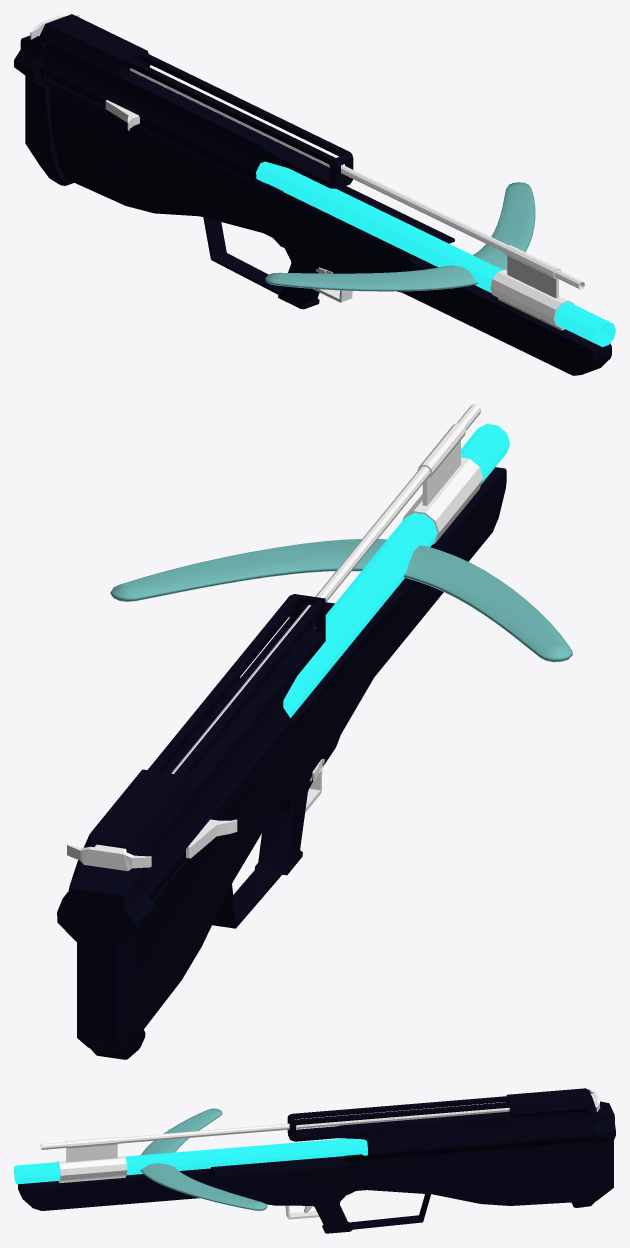
The model's file is boomerang.glb.
3 renders of one model, top to bottom at view 1: azimuth 30°, elevation 25°; view 2: azimuth 150°, elevation 25°; view 3: azimuth 270°, elevation 25°, orthographic. The views are drawn at different scales.
Visible parts, largest first — view 1: New_Game_Object_Clone__Clone__mat0_0.042, New_Game_Object_Clone__Clone__mat0_0.006, boomerang_boomerang_0.001, New_Game_Object_Clone__Clone__mat0_0.007, New_Game_Object_Clone__Clone__mat0_0.004, New_Game_Object_Clone__Clone__mat0_0.005; view 2: New_Game_Object_Clone__Clone__mat0_0.042, boomerang_boomerang_0.001, New_Game_Object_Clone__Clone__mat0_0.006, New_Game_Object_Clone__Clone__mat0_0.007, New_Game_Object_Clone__Clone__mat0_0.004, New_Game_Object_Clone__Clone__mat0_0.005, New_Game_Object_Clone__Clone__mat0_0.013, New_Game_Object_Clone__Clone__mat0_0.015; view 3: New_Game_Object_Clone__Clone__mat0_0.042, New_Game_Object_Clone__Clone__mat0_0.006, boomerang_boomerang_0.001, New_Game_Object_Clone__Clone__mat0_0.007, New_Game_Object_Clone__Clone__mat0_0.004, New_Game_Object_Clone__Clone__mat0_0.005, New_Game_Object_Clone__Clone__mat0_0.043.
Part boxes in pixels (x1,y1,x2,y2): New_Game_Object_Clone__Clone__mat0_0.042: [14, 14, 611, 375]; New_Game_Object_Clone__Clone__mat0_0.006: [256, 161, 615, 347]; boomerang_boomerang_0.001: [265, 182, 535, 291]; New_Game_Object_Clone__Clone__mat0_0.007: [130, 68, 584, 289]; New_Game_Object_Clone__Clone__mat0_0.004: [490, 269, 574, 330]; New_Game_Object_Clone__Clone__mat0_0.005: [504, 245, 561, 298]; New_Game_Object_Clone__Clone__mat0_0.042: [57, 467, 506, 1059]; boomerang_boomerang_0.001: [110, 539, 572, 662]; New_Game_Object_Clone__Clone__mat0_0.006: [283, 424, 509, 717]; New_Game_Object_Clone__Clone__mat0_0.007: [171, 404, 481, 773]; New_Game_Object_Clone__Clone__mat0_0.004: [402, 457, 483, 544]; New_Game_Object_Clone__Clone__mat0_0.005: [417, 423, 465, 505]; New_Game_Object_Clone__Clone__mat0_0.013: [67, 844, 151, 871]; New_Game_Object_Clone__Clone__mat0_0.015: [186, 819, 237, 858]; New_Game_Object_Clone__Clone__mat0_0.042: [18, 1088, 615, 1233]; New_Game_Object_Clone__Clone__mat0_0.006: [14, 1138, 367, 1184]; boomerang_boomerang_0.001: [140, 1108, 267, 1210]; New_Game_Object_Clone__Clone__mat0_0.007: [40, 1107, 509, 1149]; New_Game_Object_Clone__Clone__mat0_0.004: [58, 1155, 127, 1183]; New_Game_Object_Clone__Clone__mat0_0.005: [66, 1137, 118, 1162]; New_Game_Object_Clone__Clone__mat0_0.043: [285, 1205, 319, 1219].
Size of the model in its own units: 0.7026 by 0.3751 by 1.77.
